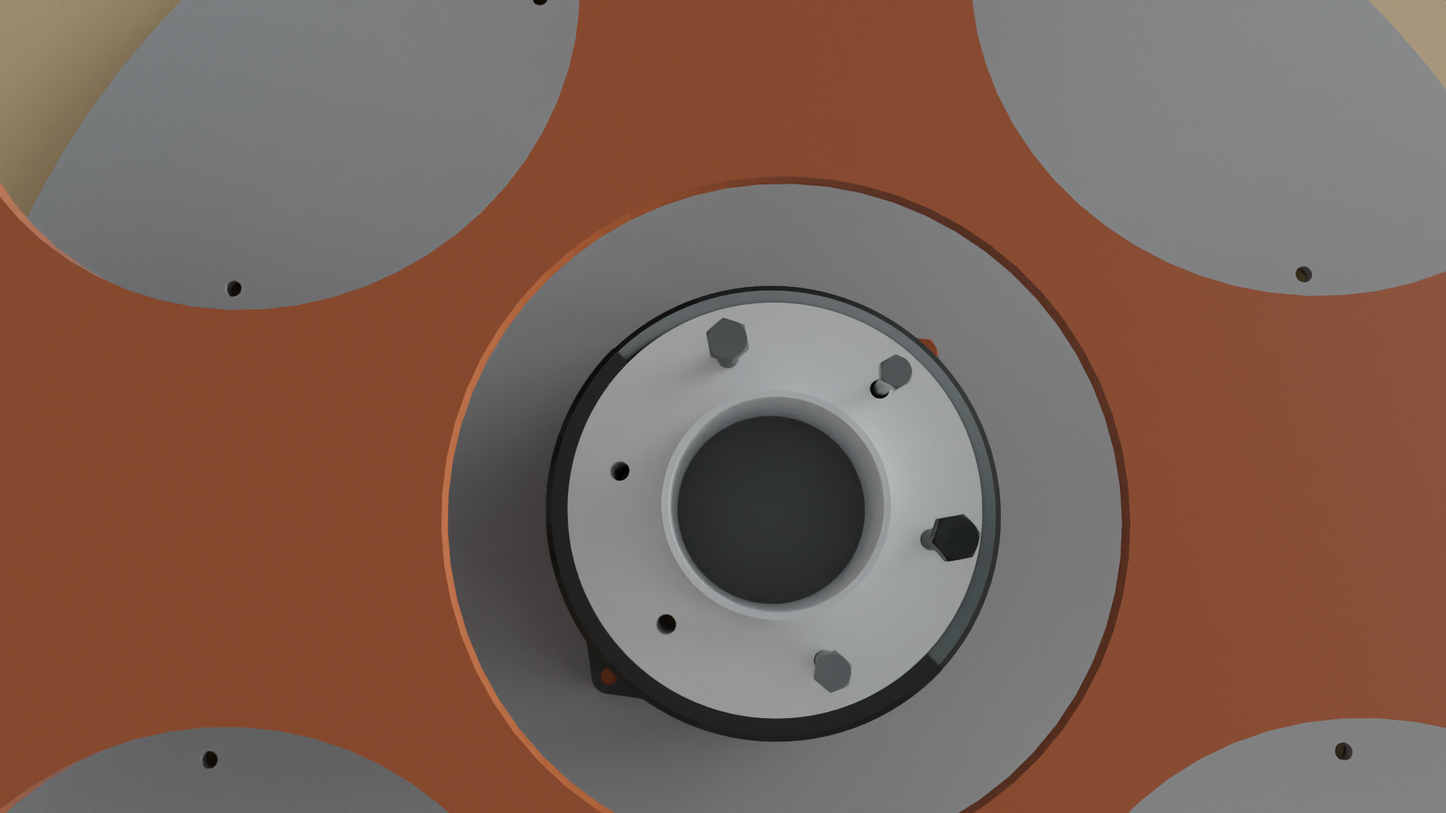bolt: (932, 514, 981, 562), (706, 318, 749, 361), (814, 651, 853, 693), (880, 355, 912, 389)
